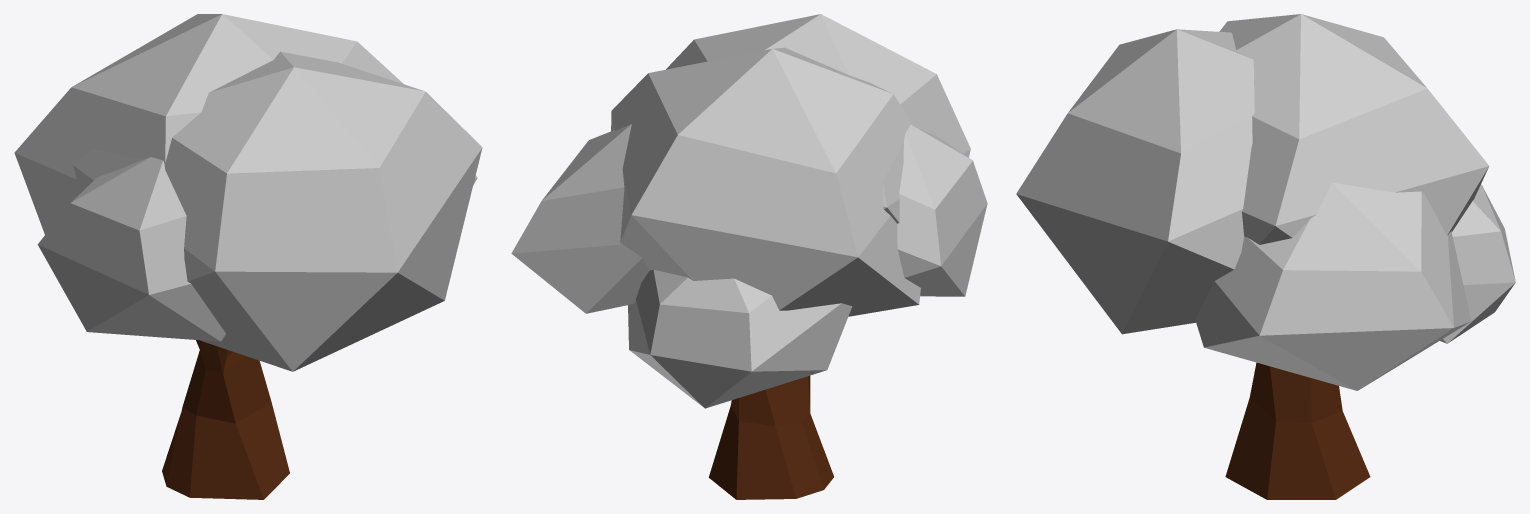
File: T_Oak3Snow.fbx
3 views of the same model, side by side, from view 1: azimuth 30°, elevation 25°; view 2: azimuth 150°, elevation 25°; view 3: azimuth 270°, elevation 25° (orthographic). The views are drawn at different scales.
Parts seen in each view (by area): view 1: Icosphere; view 2: Icosphere; view 3: Icosphere.
Boxes of the visible parts, <box> form: Icosphere: <box>14,14,482,499</box>; Icosphere: <box>511,14,987,499</box>; Icosphere: <box>1016,14,1515,499</box>.
Bounding box in the file's own units: 8.59 × 9.03 × 8.87.
